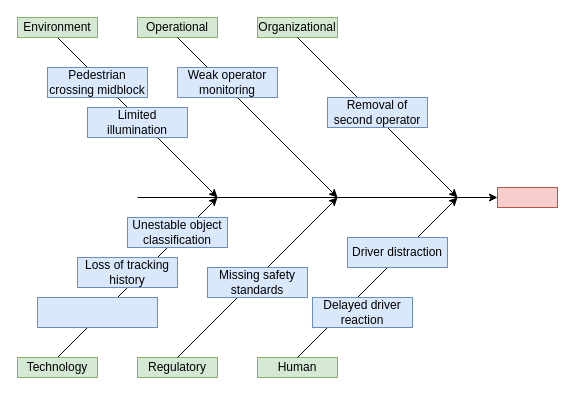
Image size: 575x395. Some labels were removed from this diagram. Here are the shapes that lost their labels. From the top down, the box of each, then its label:
(496, 186, 558, 208): Collision
(36, 296, 158, 328): No collision-mitigation braking
